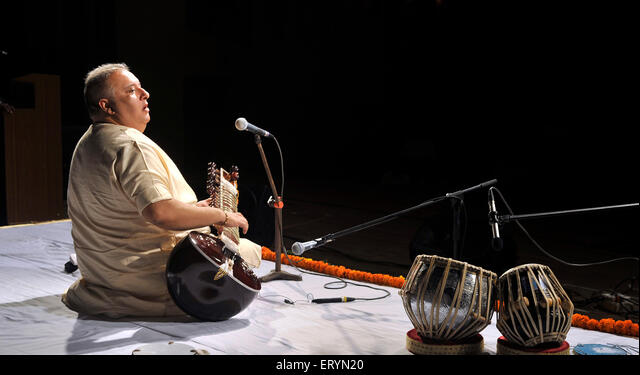tabla: (403, 255, 500, 341), (496, 260, 573, 346)
